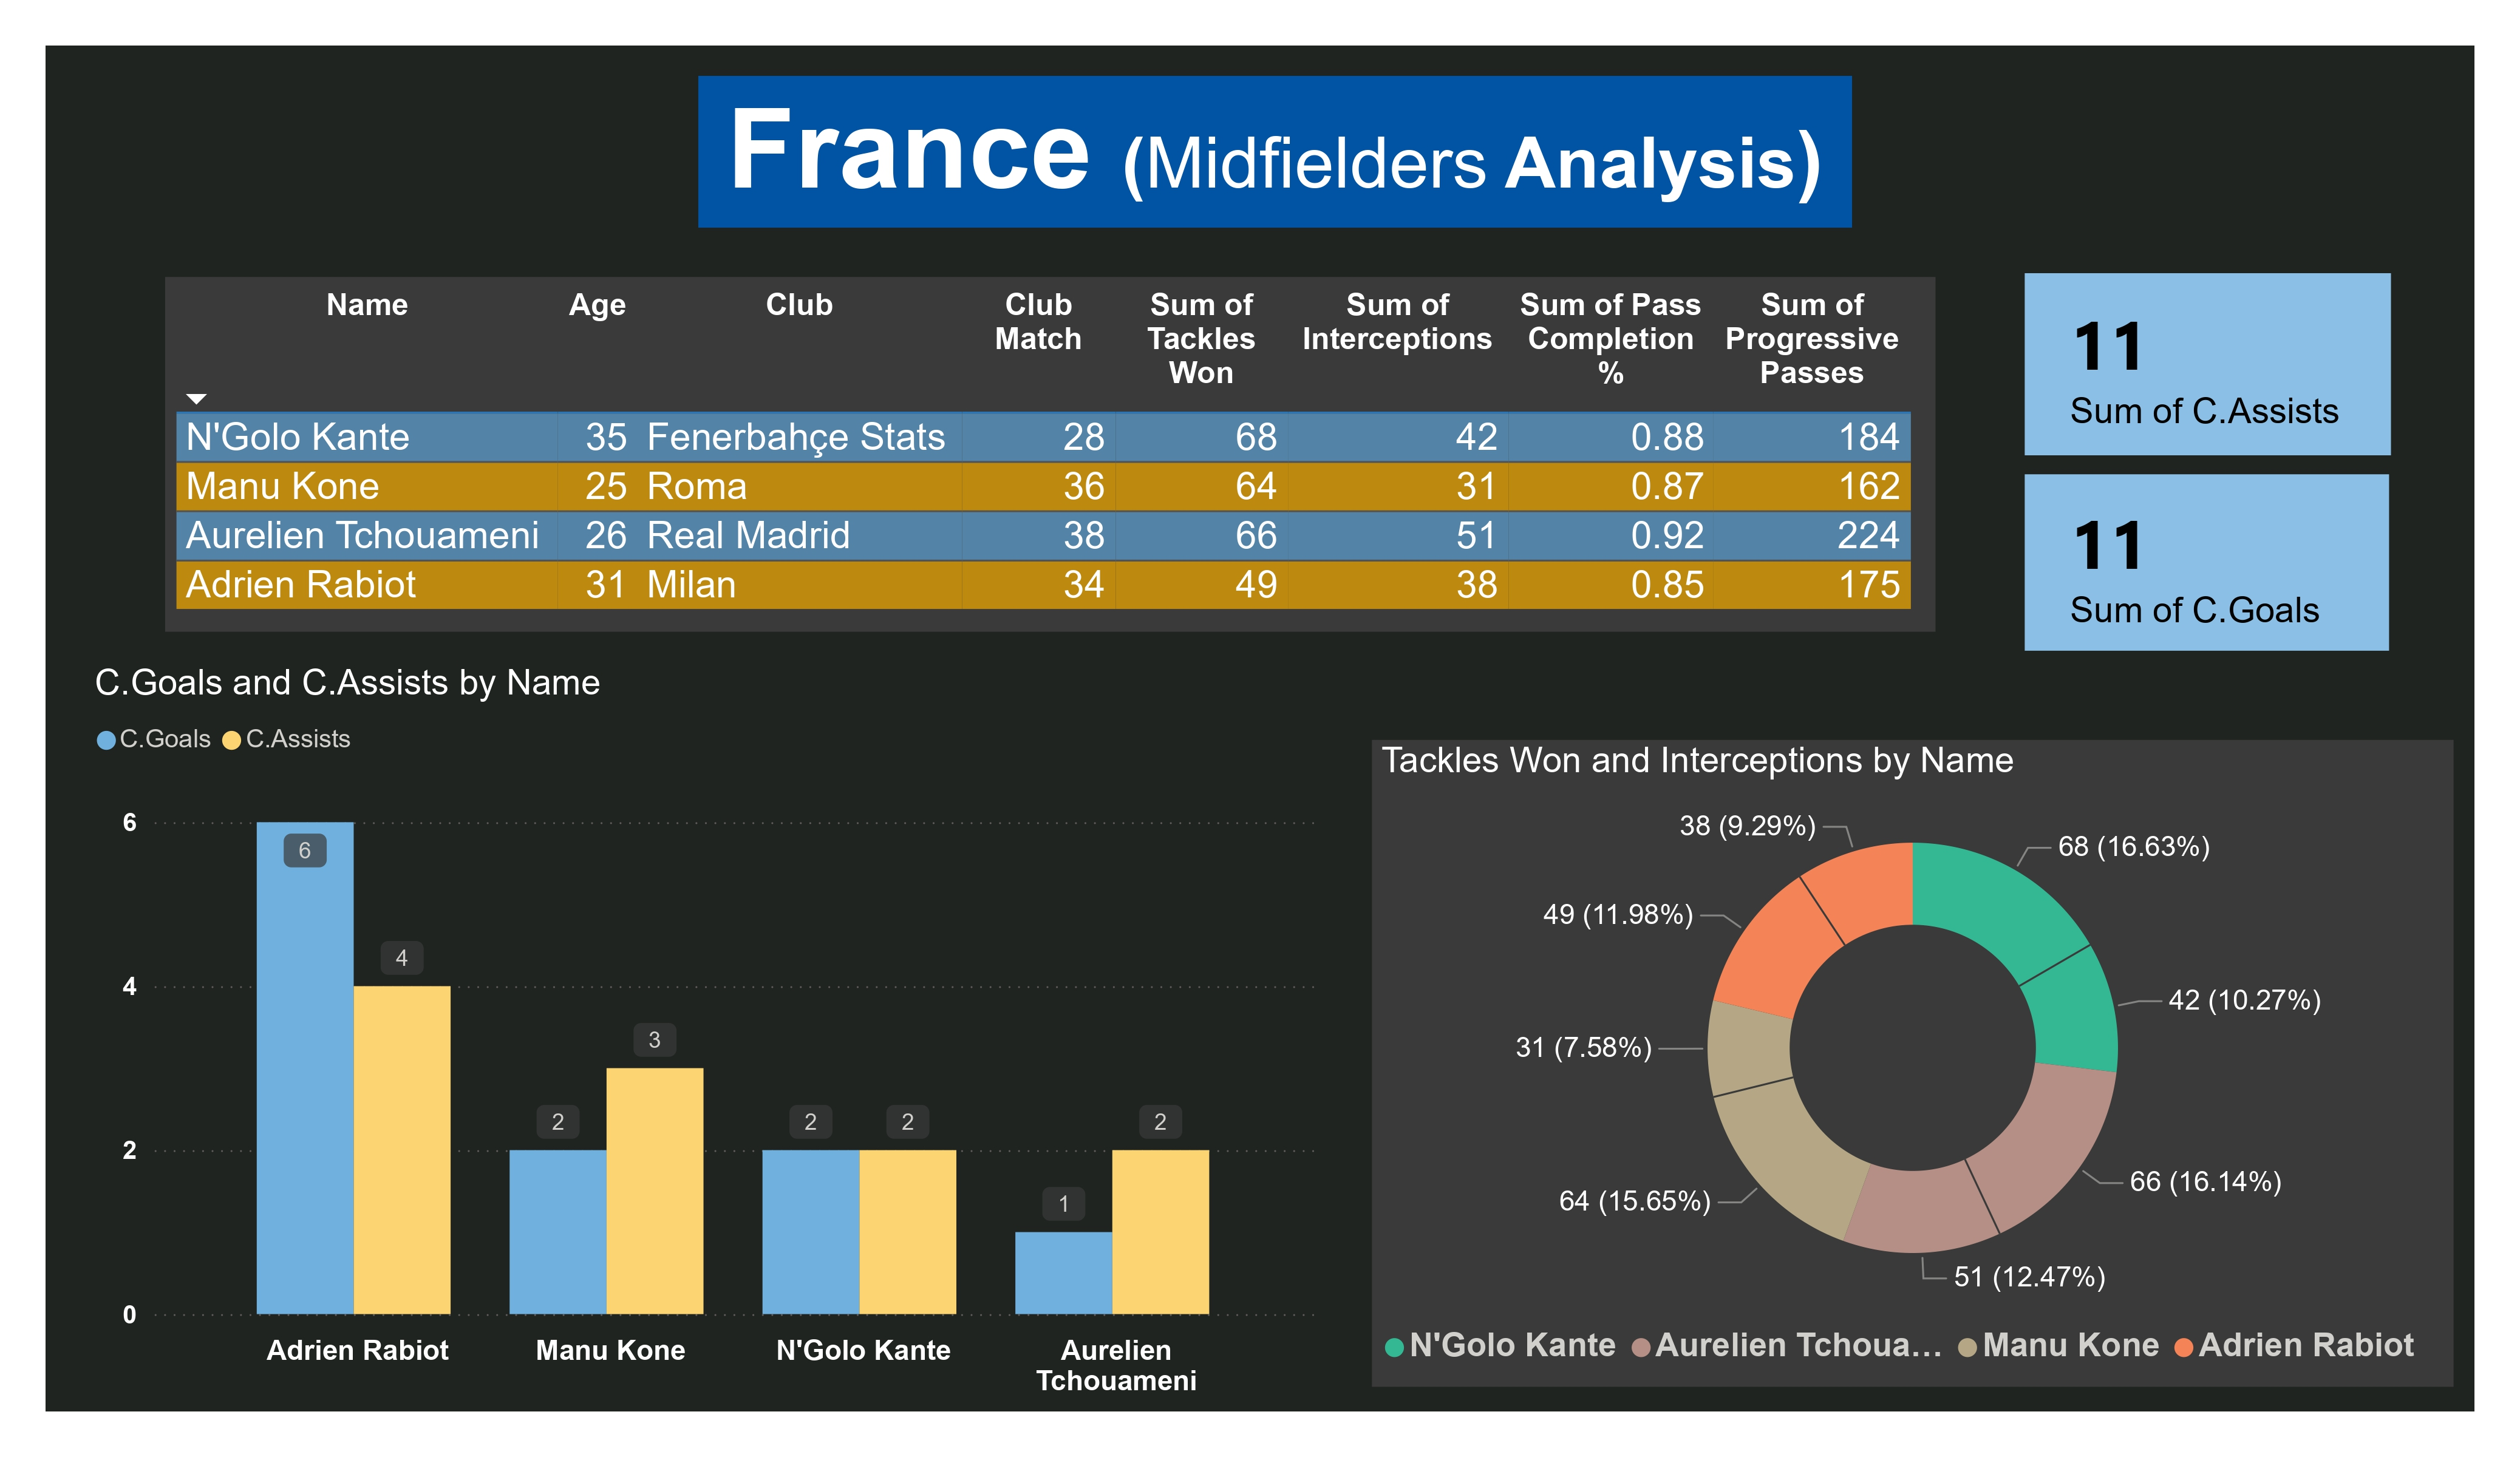

This screenshot's page, from the dashboard's own definition file:
{"tool":"powerbi","page":{"name":"Midfilders","canvas":[1280,720],"ordinal":1},"visuals":[{"type":"slicer","fields":{"Values":["Sheet1.Position"]},"box":[995.9,522.4,246.5,181.2],"z":0},{"type":"lineClusteredColumnComboChart","fields":{"Category":["Sheet1.Name"],"Y":["Sum(Sheet1.C.Goals)","Sum(Sheet1.C.Assists)"]},"box":[21.2,324.9,654.7,395.1],"z":1000},{"type":"cardVisual","fields":{"Data":["Sum(Sheet1.C.Goals)"]},"box":[1038.2,221.2,202,103],"z":2000},{"type":"cardVisual","fields":{"Data":["Sum(Sheet1.C.Assists)"]},"box":[1038.1,115.1,202.4,106.1],"z":3000},{"type":"donutChart","fields":{"Category":["Sheet1.Name"],"Y":["Sum(Sheet1.Tackles Won)","Sum(Sheet1.Interceptions)"]},"box":[698.8,365.7,569.8,341.2],"z":4000},{"type":"tableEx","fields":{"Values":["Sheet1.Name","Sheet1.Age","Sheet1.Club","Sheet1.Club Match","Sum(Sheet1.Tackles Won)","Sum(Sheet1.Interceptions)","Sum(Sheet1.Pass Completion %)","Sum(Sheet1.Progressive Passes )"]},"box":[63.4,121.7,932.2,187.8],"z":5000},{"type":"textbox","box":[344.5,16.3,607.3,80],"z":6000}]}

Visuals, with their boxes on the page's 1280x720 design canvas (x1, y1, x2, y2). These are canvas units, not pixel positions in the 2520x1457 screenshot, which may show the page scaled, cropped or inside an application window:
slicer - Sheet1.Position: [996,522,1242,704]
lineClusteredColumnComboChart - Sheet1.Name x Sum(Sheet1.C.Goals): [21,325,676,720]
cardVisual - Sum(Sheet1.C.Goals): [1038,221,1240,324]
cardVisual - Sum(Sheet1.C.Assists): [1038,115,1240,221]
donutChart - Sheet1.Name x Sum(Sheet1.Tackles Won): [699,366,1269,707]
tableEx - Sheet1.Name x Sheet1.Age: [63,122,996,310]
textbox: [344,16,952,96]
